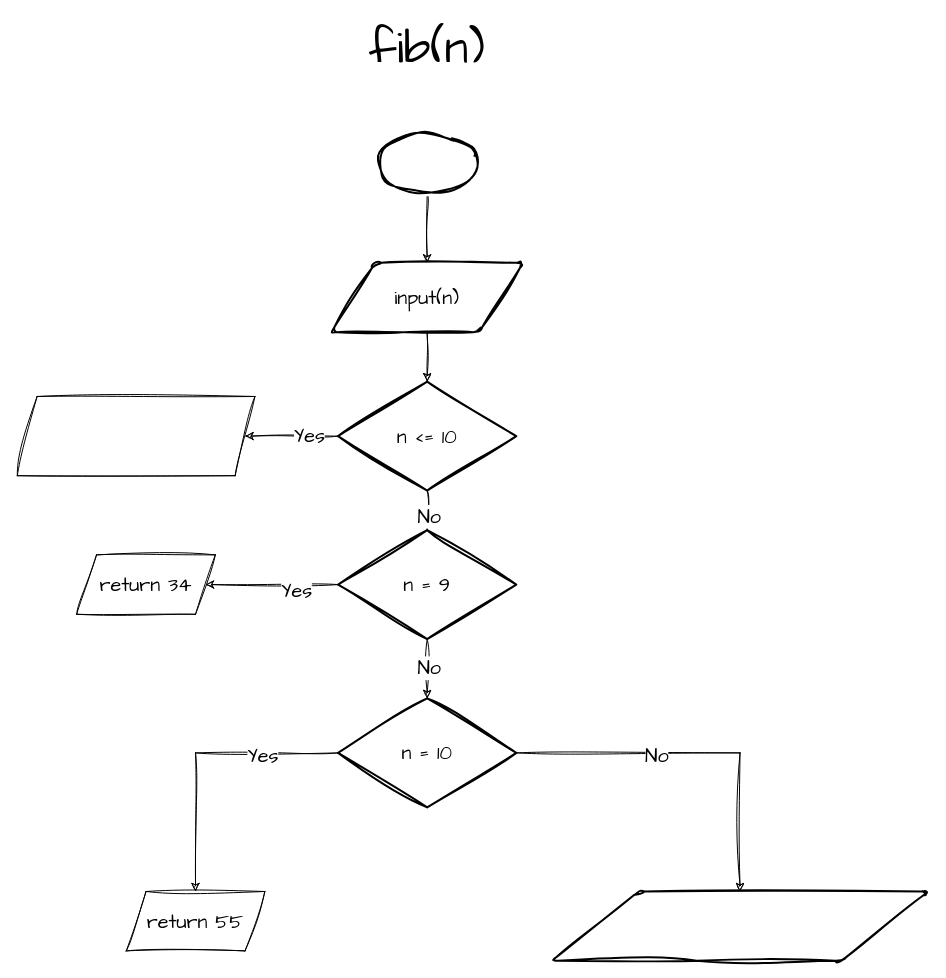
This 946x978 diagram has some shape labels left out. Here are the shapes that lost their labels. From the top down, the box of each, then its label:
(376, 133, 477, 194): Start
(16, 396, 255, 476): hanya untuk n > 10 !!! return
(550, 890, 929, 961): return fib(n - 1) + fib(n - 2)
